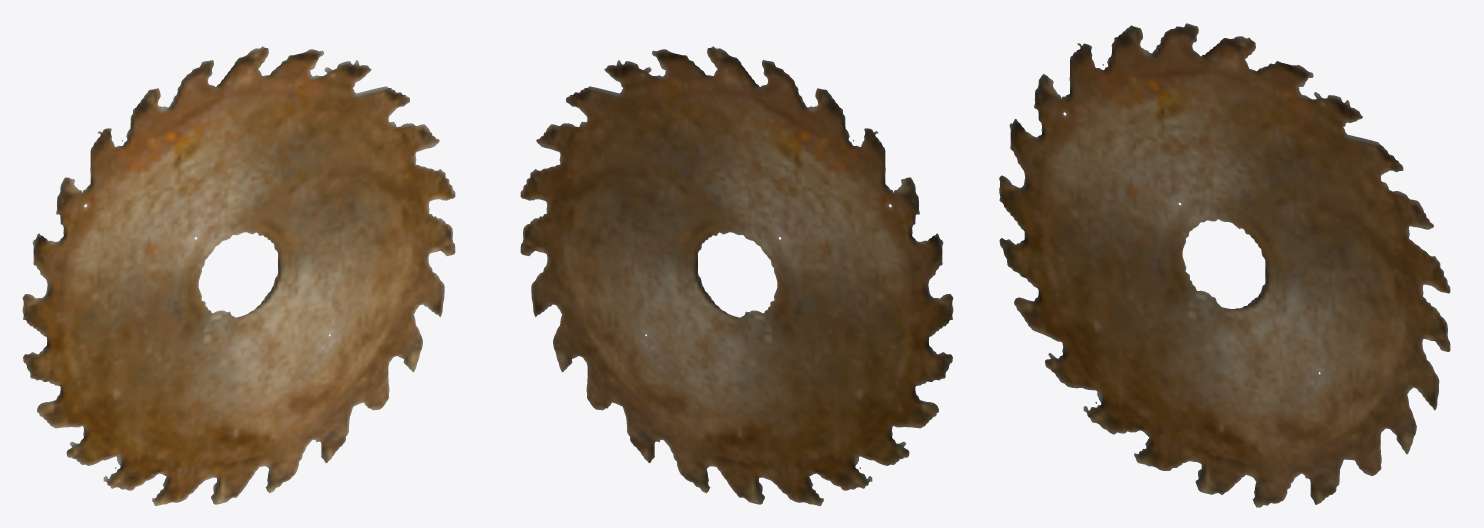
Rendered from sawblade_2.FBX.
3 renders of one model, left to right at view 1: azimuth 30°, elevation 25°; view 2: azimuth 150°, elevation 25°; view 3: azimuth 330°, elevation 25°, orthographic. The views are drawn at different scales.
Parts seen in each view (by area): view 1: sawblade_2; view 2: sawblade_2; view 3: sawblade_2.
Boxes of the visible parts, x1,y1,x2,y2 form: sawblade_2: (22,46,455,505); sawblade_2: (520,46,953,505); sawblade_2: (999,23,1450,507).
Bounding box in the file's own units: 24.37 × 24.29 × 6.69e-06.
